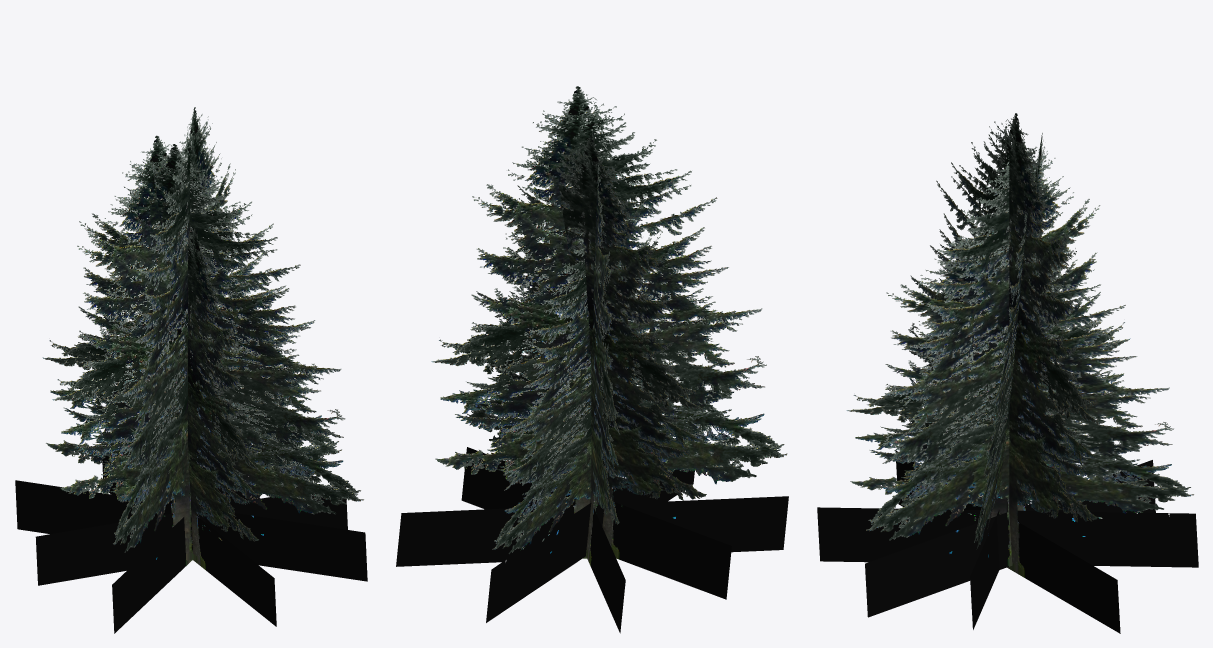
The model's file is treepine.fbx.
3 views of the same model, side by side, from view 1: azimuth 30°, elevation 25°; view 2: azimuth 150°, elevation 25°; view 3: azimuth 270°, elevation 25° (orthographic). The views are drawn at different scales.
Parts seen in each view (by area): view 1: Pine2.001; view 2: Pine2.001; view 3: Pine2.001.
Boxes of the visible parts, bbox=[...] form: Pine2.001: bbox=[15, 107, 367, 633]; Pine2.001: bbox=[396, 86, 788, 633]; Pine2.001: bbox=[817, 113, 1198, 633].
Size of the model in its own units: 2750 by 4407 by 3121.
Materials: 2 (2 with a texture image).
